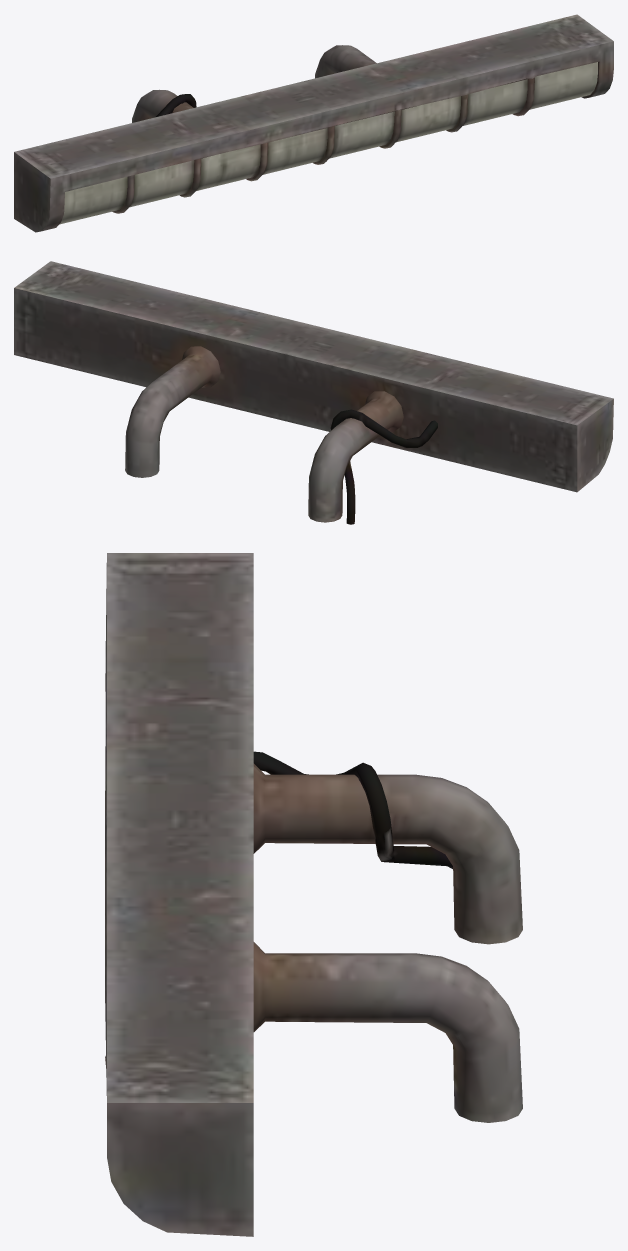
The model's file is weaponracklight.glb.
3 views of the same model, one above another, from view 1: azimuth 30°, elevation 25°; view 2: azimuth 150°, elevation 25°; view 3: azimuth 270°, elevation 25° (orthographic). The views are drawn at different scales.
Parts seen in each view (by area): view 1: WallRackLightFittingOn; view 2: WallRackLightFittingOn; view 3: WallRackLightFittingOn.
Boxes of the visible parts, left/top/right/bottom form: WallRackLightFittingOn: left=14, top=14, right=613, bottom=232; WallRackLightFittingOn: left=14, top=261, right=613, bottom=524; WallRackLightFittingOn: left=105, top=553, right=522, bottom=1236.
Bounding box in the file's own units: 0.5633 × 0.0916 × 0.181.
Materials: 1 (1 with a texture image).
